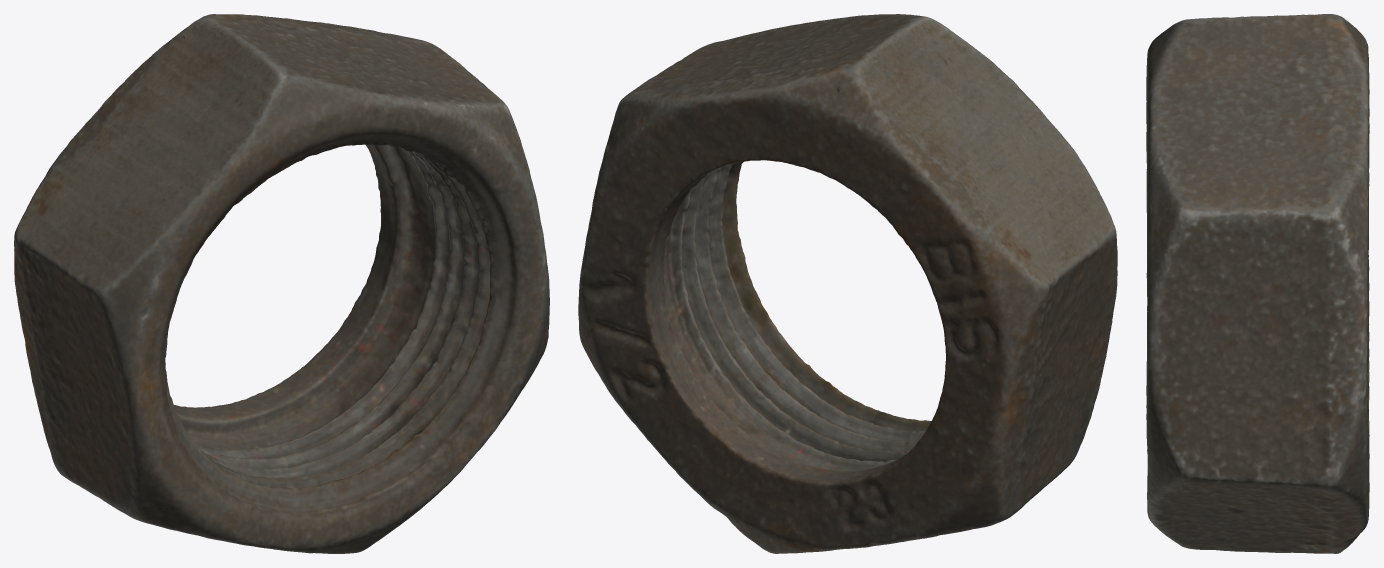
File: hex_nut.obj
3 renders of one model, left to right at view 1: azimuth 30°, elevation 25°; view 2: azimuth 150°, elevation 25°; view 3: azimuth 270°, elevation 25°, orthographic.
Visible parts, largest first — view 1: mesh_obj; view 2: mesh_obj; view 3: mesh_obj.
Part boxes in pixels (bbox=[...]): mesh_obj: bbox=[14, 14, 549, 553]; mesh_obj: bbox=[578, 14, 1117, 553]; mesh_obj: bbox=[1146, 14, 1369, 553].
Bounding box in the file's own units: 0.0445 × 0.0464 × 0.0187.
1 material, 1 textured.
